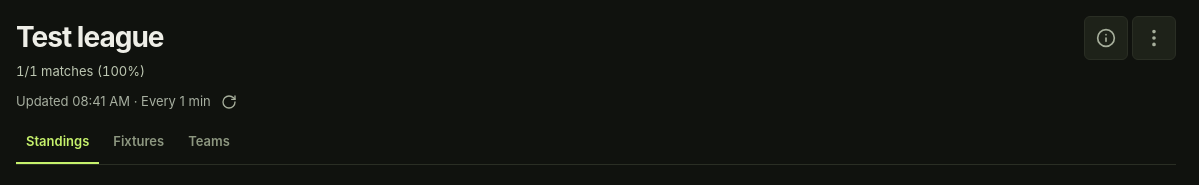
it: following errors remain actionable inside the public actions menu
The width and height of the screenshot is (1199, 185).
Expected: the heading "Test league" is shown, [16,20,164,54]
Click the button named "Tournament actions" at (1154, 38), box [1132,16,1176,60]
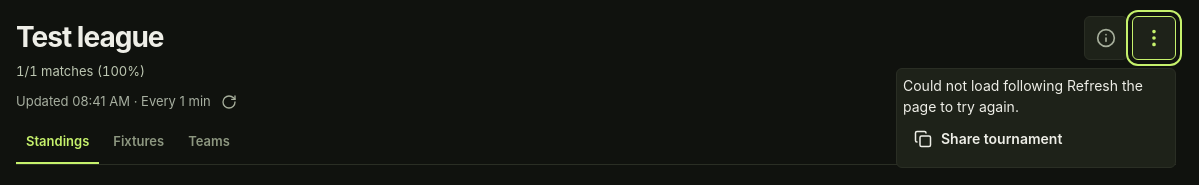
Now the message "Could not load following Refresh the page to try again." is shown, box [903,75,1169,117]
